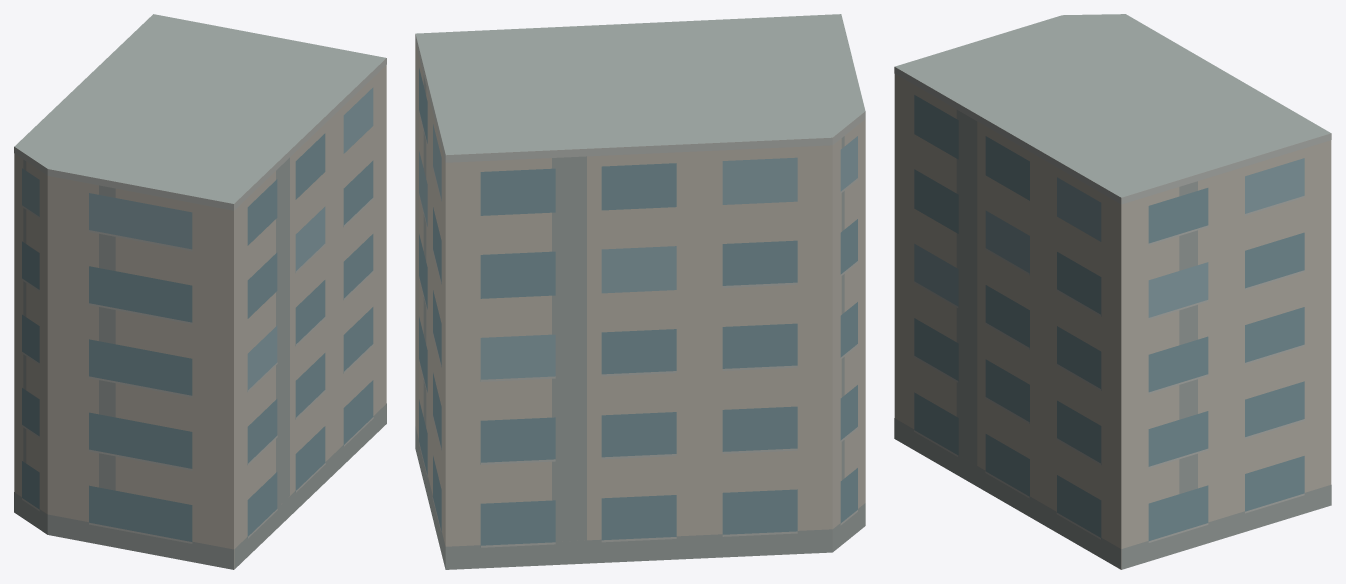
The model's file is survey-upis-32631159.glb.
The picture shows the model from 3 angles, left to right: view 1: azimuth 30°, elevation 25°; view 2: azimuth 150°, elevation 25°; view 3: azimuth 270°, elevation 25°; orthographic projection. The views are drawn at different scales.
Visible parts, largest first — view 1: survey-upis-32631159.tmp; view 2: survey-upis-32631159.tmp; view 3: survey-upis-32631159.tmp.
Boxes of the visible parts, <box> form: survey-upis-32631159.tmp: <box>14,14,386,569</box>; survey-upis-32631159.tmp: <box>415,14,865,569</box>; survey-upis-32631159.tmp: <box>894,14,1331,569</box>.
Bounding box in the file's own units: 13.99 × 13.2 × 14.06.
